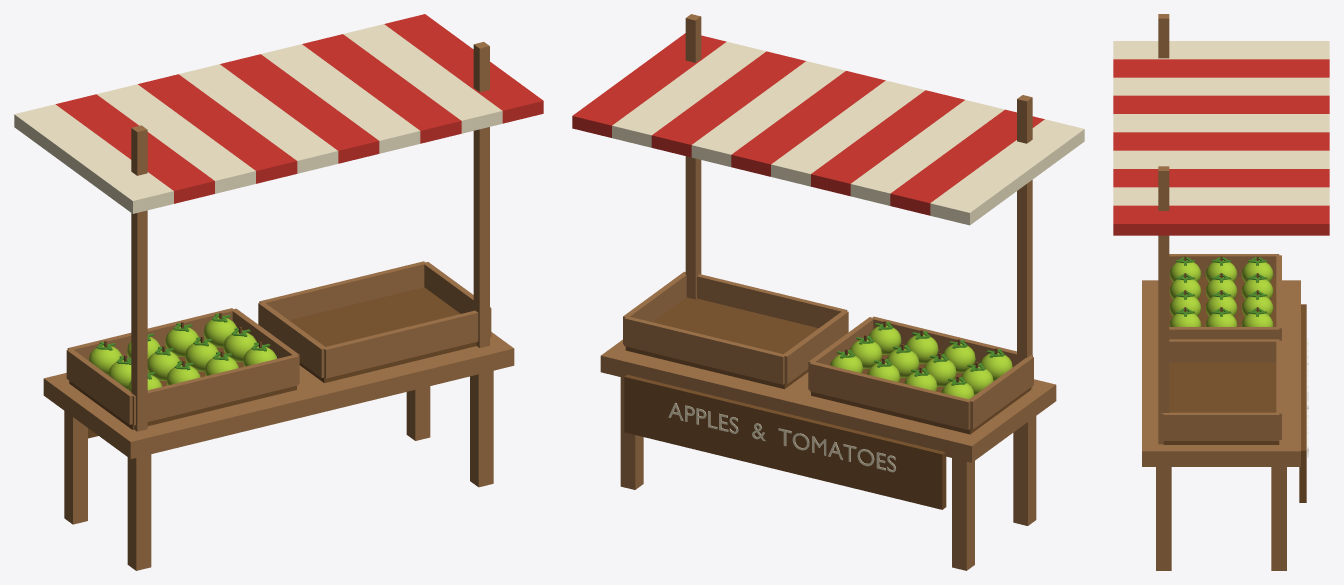
Rendered from stand.glb.
The picture shows the model from 3 angles, left to right: view 1: azimuth 30°, elevation 25°; view 2: azimuth 150°, elevation 25°; view 3: azimuth 270°, elevation 25°; orthographic projection. The views are drawn at different scales.
Parts seen in each view (by area): view 1: counter, striped canopy, striped canopy.001, front sign, Apple, Apple leaf; view 2: counter, striped canopy, front sign, striped canopy.001, Apple, Apple leaf; view 3: counter, striped canopy.001, striped canopy, front sign, Apple, Apple leaf.
Part boxes in pixels (bbox=[...]): counter: bbox=[43, 42, 514, 570]; striped canopy: bbox=[14, 24, 502, 213]; striped canopy.001: bbox=[55, 14, 543, 203]; front sign: bbox=[69, 287, 476, 438]; Apple: bbox=[88, 317, 277, 391]; Apple leaf: bbox=[96, 313, 270, 379]; counter: bbox=[600, 14, 1056, 570]; striped canopy: bbox=[612, 41, 1084, 472]; front sign: bbox=[624, 297, 1031, 509]; striped canopy.001: bbox=[572, 33, 1044, 215]; Apple: bbox=[830, 325, 1012, 399]; Apple leaf: bbox=[836, 321, 1004, 385]; counter: bbox=[1142, 14, 1300, 570]; striped canopy.001: bbox=[1113, 59, 1329, 235]; striped canopy: bbox=[1113, 41, 1329, 457]; front sign: bbox=[1163, 256, 1306, 502]; Apple: bbox=[1169, 260, 1273, 326]; Apple leaf: bbox=[1175, 256, 1267, 316].
Bounding box in the file's own units: 3 × 3.05 × 1.5.
